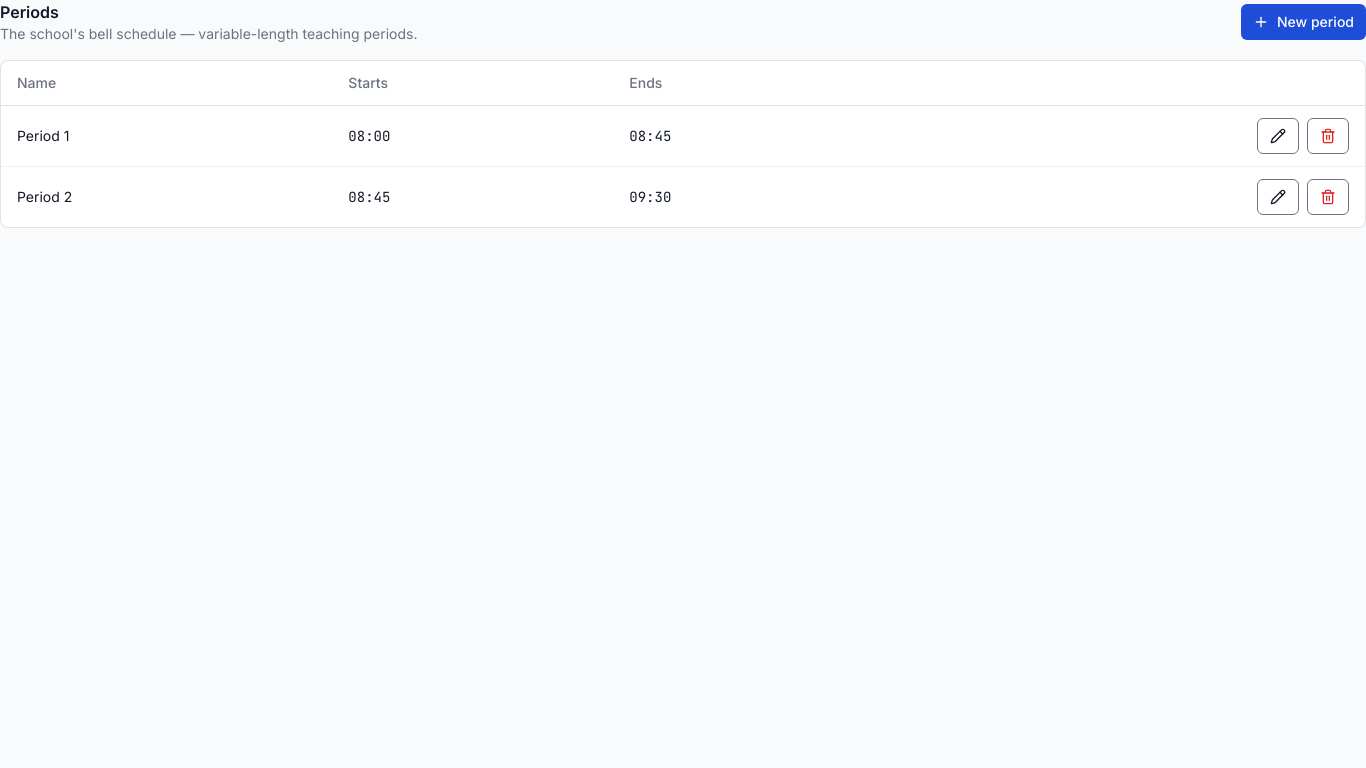
Scenario: PeriodsSection › Delete removes a period after confirming
Expected: the text "Period 1" is shown, left=1, top=106, right=332, bottom=166
Click the button named "Delete Period 1". click: (1328, 136)
box: left=1307, top=118, right=1349, bottom=154
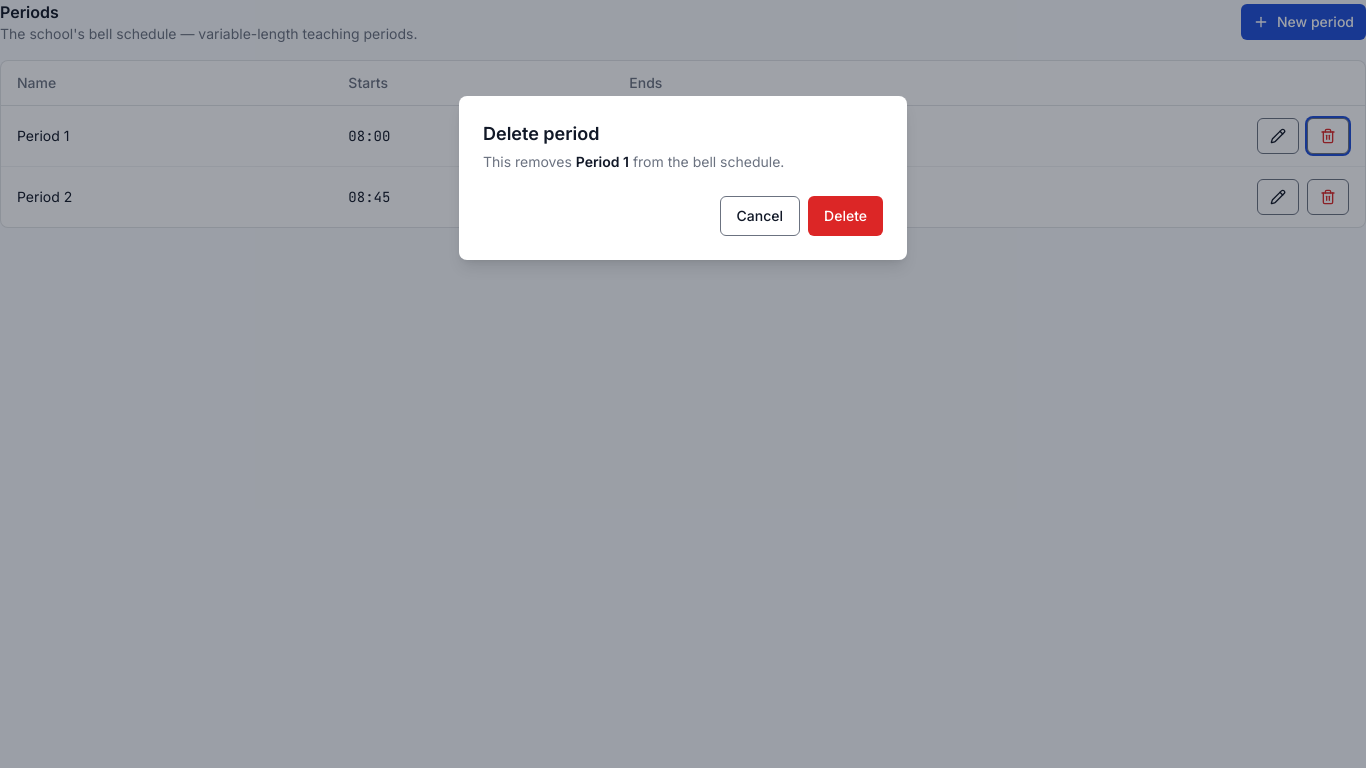
Click the button "Delete". click: (846, 216)
box: left=808, top=196, right=883, bottom=236
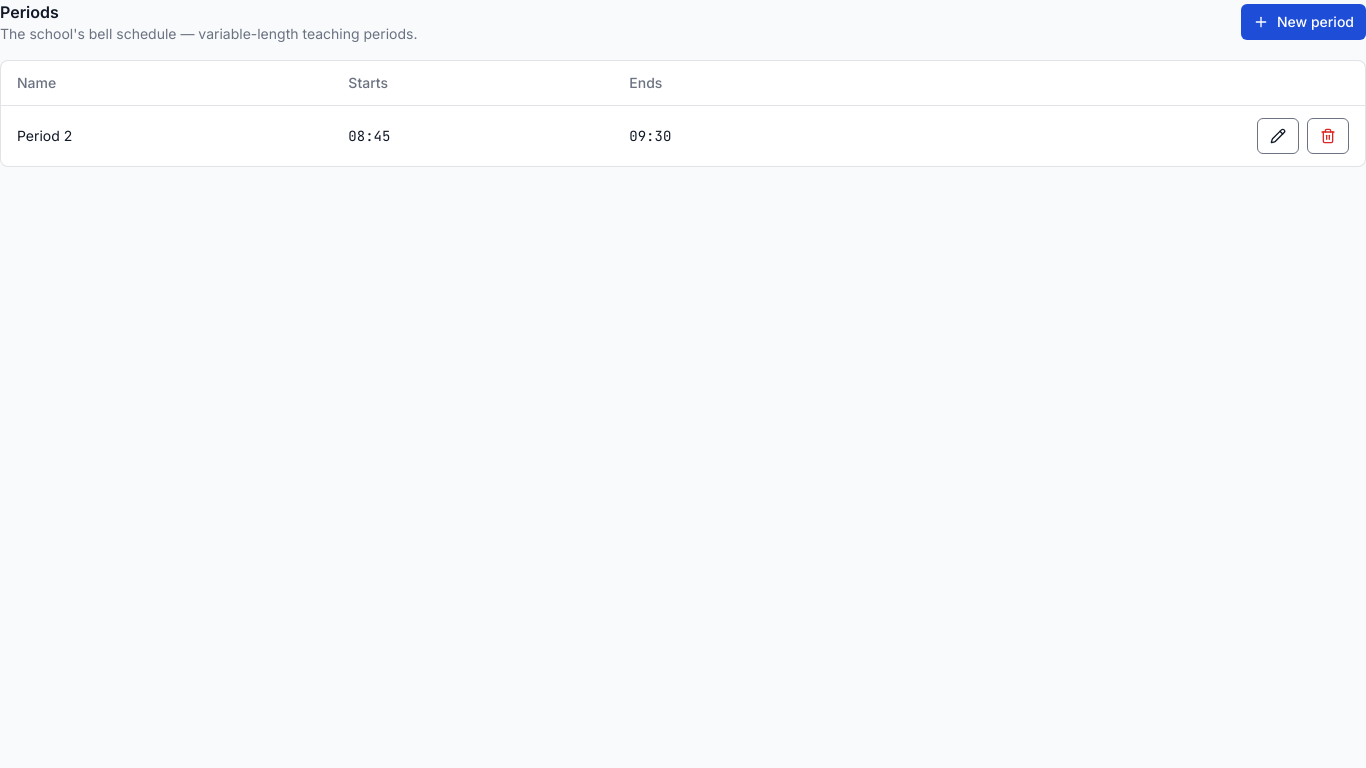
Expected: the text "Period 2" is shown, left=1, top=106, right=332, bottom=166
Result: the text "Period 1" is gone
